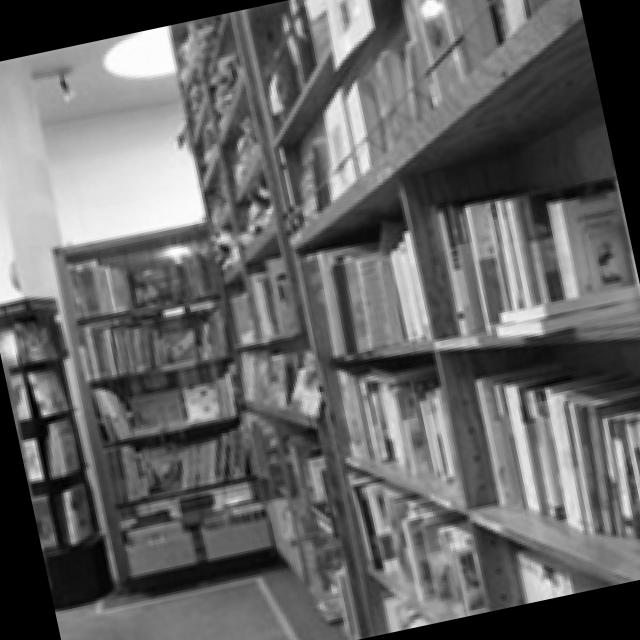book case: (365, 49, 409, 151), (319, 86, 357, 198)
bookcase crop: (165, 0, 640, 639), (48, 220, 276, 589)
bookcase occluded: (0, 295, 110, 607)
books crop: (426, 172, 632, 333), (473, 357, 640, 541), (345, 473, 481, 611), (336, 359, 454, 483), (492, 281, 635, 337), (77, 320, 197, 378), (65, 260, 128, 316), (293, 136, 325, 222)
ceiling beam: (0, 26, 176, 131)
floor -X: (54, 559, 346, 640)
lamp part: (96, 26, 174, 76)
wall clock: (0, 100, 276, 607)
